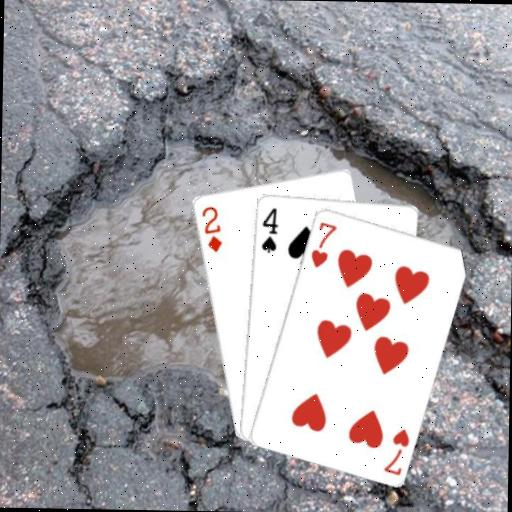2D: (198, 202, 224, 253)
4S: (258, 204, 280, 254)
7H: (380, 425, 411, 478), (307, 218, 338, 270)
